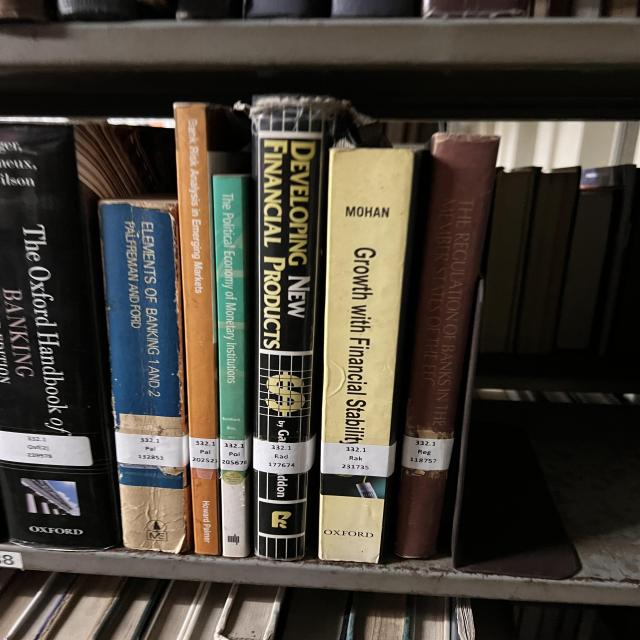Book: (0, 125, 120, 550), (395, 134, 498, 559), (318, 149, 420, 562), (252, 96, 340, 559), (173, 102, 247, 555), (100, 198, 192, 552), (212, 175, 252, 558)
Label: (0, 431, 93, 466), (320, 442, 395, 478), (115, 432, 188, 468), (253, 436, 315, 474), (402, 435, 453, 470), (220, 438, 252, 471), (188, 438, 220, 470)
